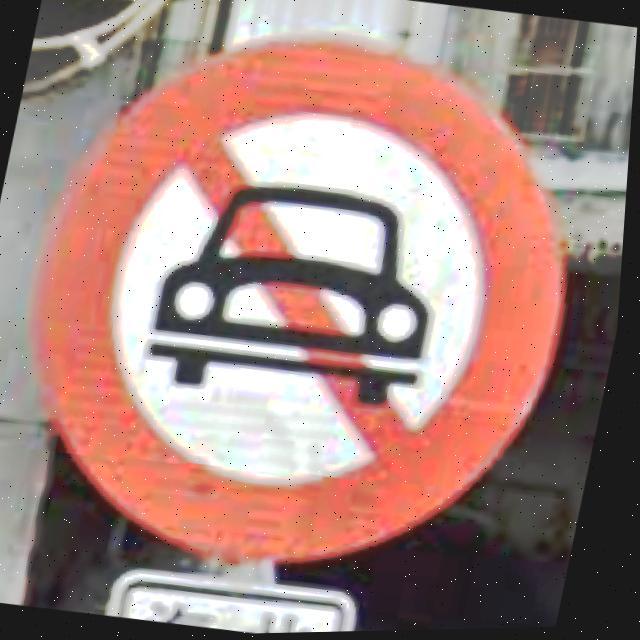nocar: (34, 35, 574, 569)
